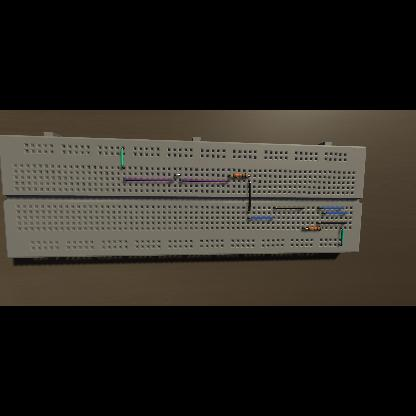breadboard: (0, 132, 366, 258)
resistor: (233, 174, 247, 178), (307, 227, 321, 231)
wire: (123, 178, 175, 182), (338, 228, 344, 246), (180, 180, 228, 182), (247, 181, 250, 213), (121, 147, 125, 168), (273, 207, 305, 209), (316, 222, 348, 224), (247, 217, 274, 219), (322, 213, 348, 215), (317, 208, 344, 209), (174, 174, 182, 176), (302, 228, 308, 229), (322, 228, 324, 229), (228, 176, 233, 176), (248, 176, 250, 176)
